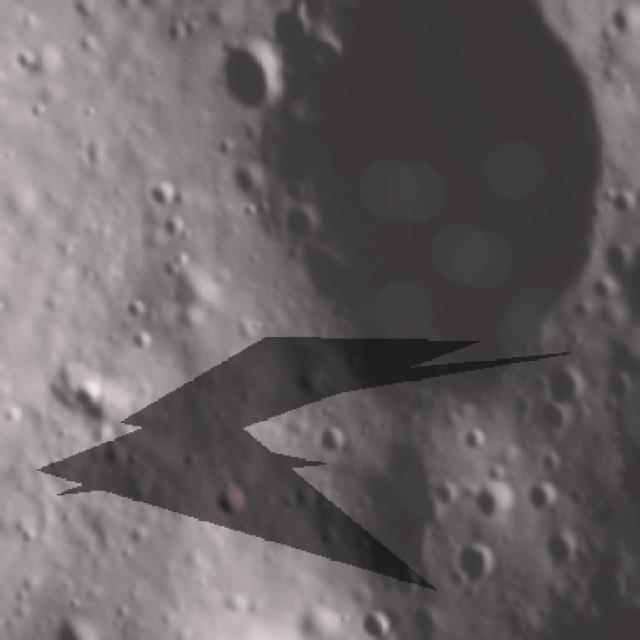crater: (251, 6, 592, 420), (216, 29, 284, 132), (528, 362, 590, 415), (449, 544, 503, 591), (470, 480, 516, 528), (381, 559, 427, 604), (206, 480, 252, 525), (348, 600, 392, 640), (542, 533, 580, 576), (147, 171, 182, 215), (527, 481, 561, 514)
